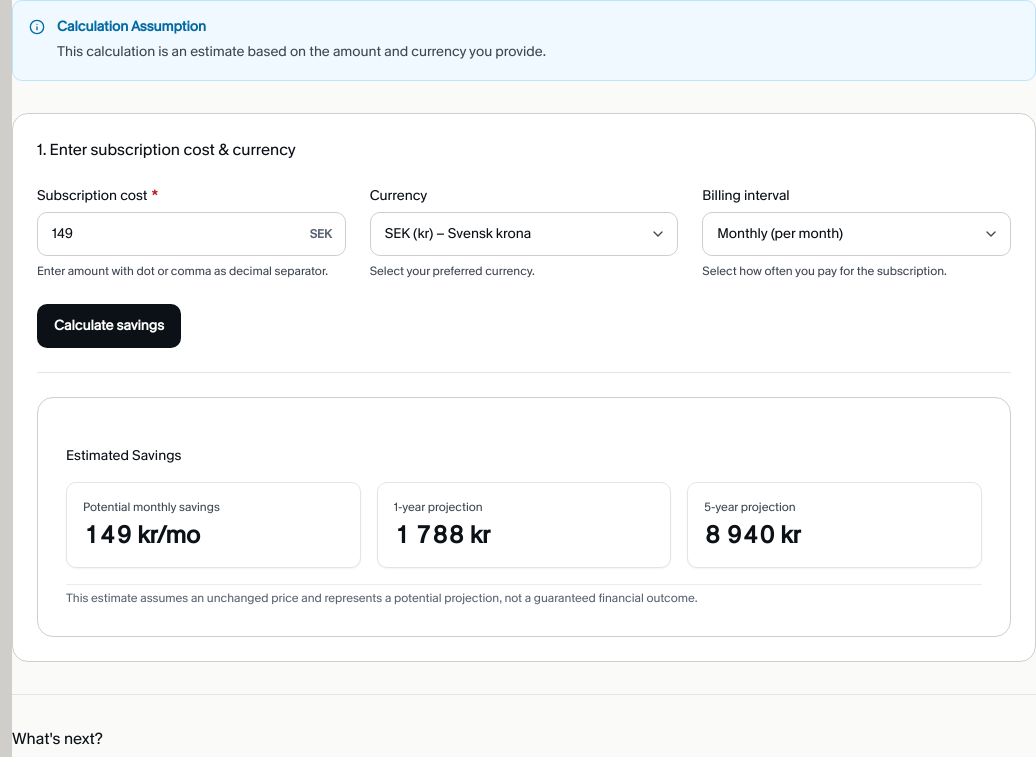
Test: SavingsCalculator Component › switches currency and automatically updates projection formatting
Select "USD ($) – US Dollar" in the dropdown labelled "Currency": (524, 234) left=370, top=212, right=678, bottom=256
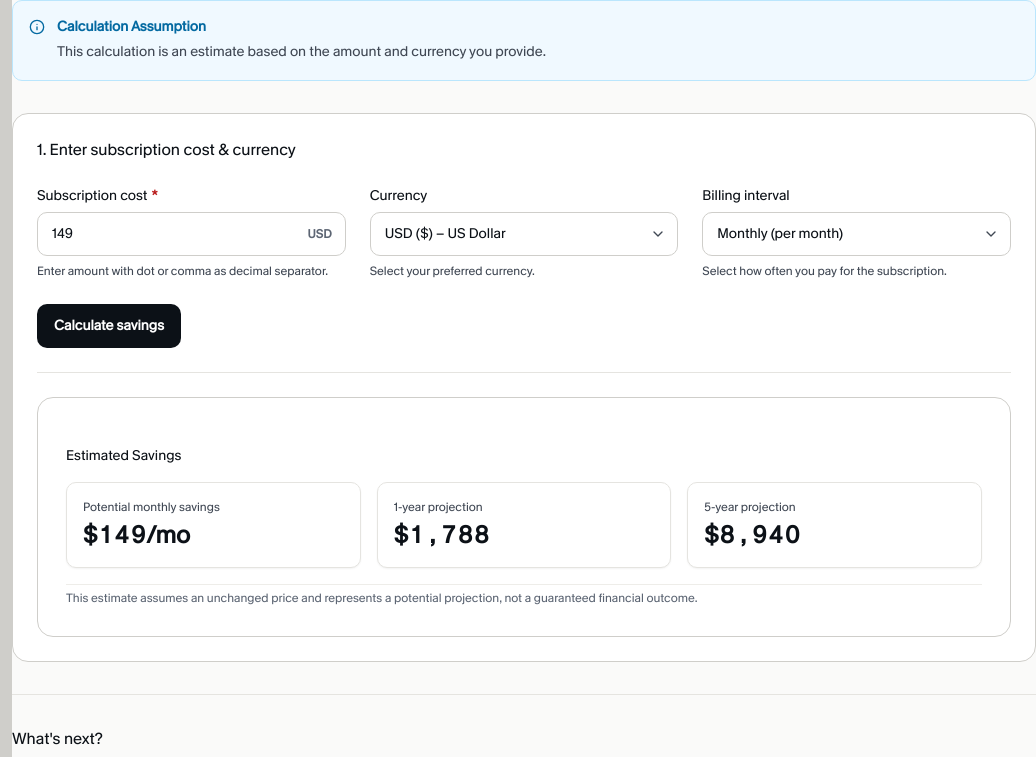
Replace the text in the field labelled "Subscription cost *" with "15": (191, 234) left=37, top=212, right=346, bottom=256
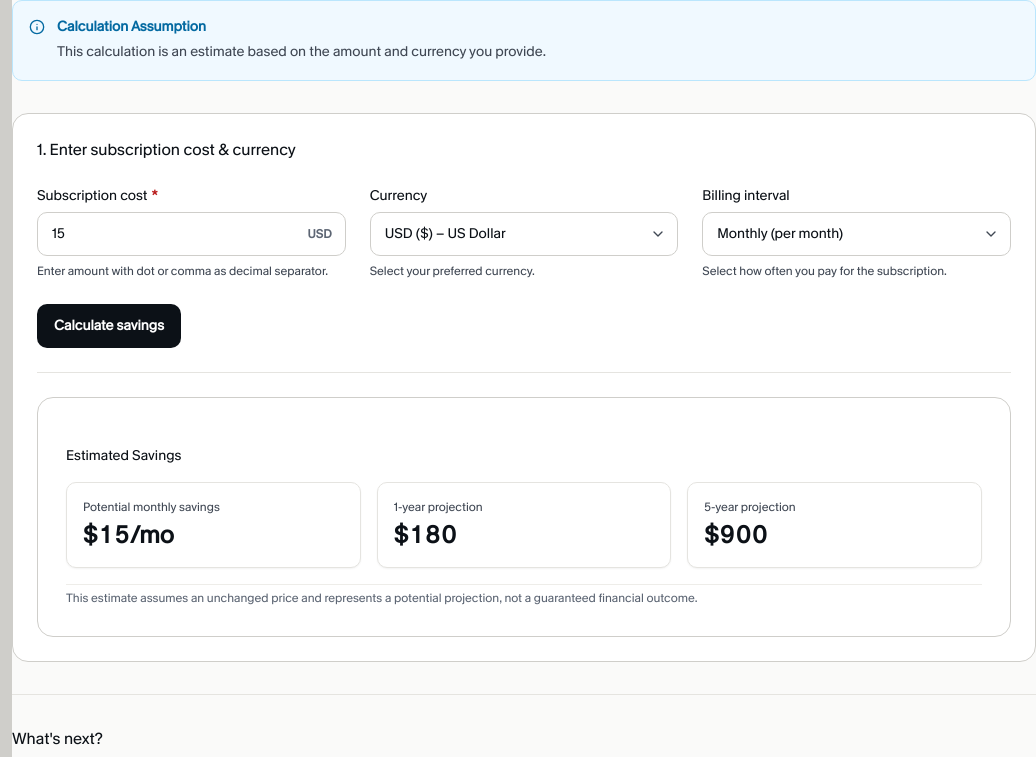
Expected: the text "$15/mo" is shown, left=83, top=519, right=174, bottom=551
Expected: the text "$180" is shown, left=394, top=519, right=457, bottom=551
Expected: the text "$900" is shown, left=704, top=519, right=768, bottom=551
